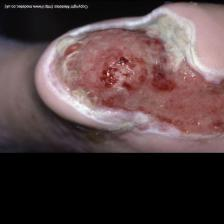Wound: (34, 11, 224, 149)
